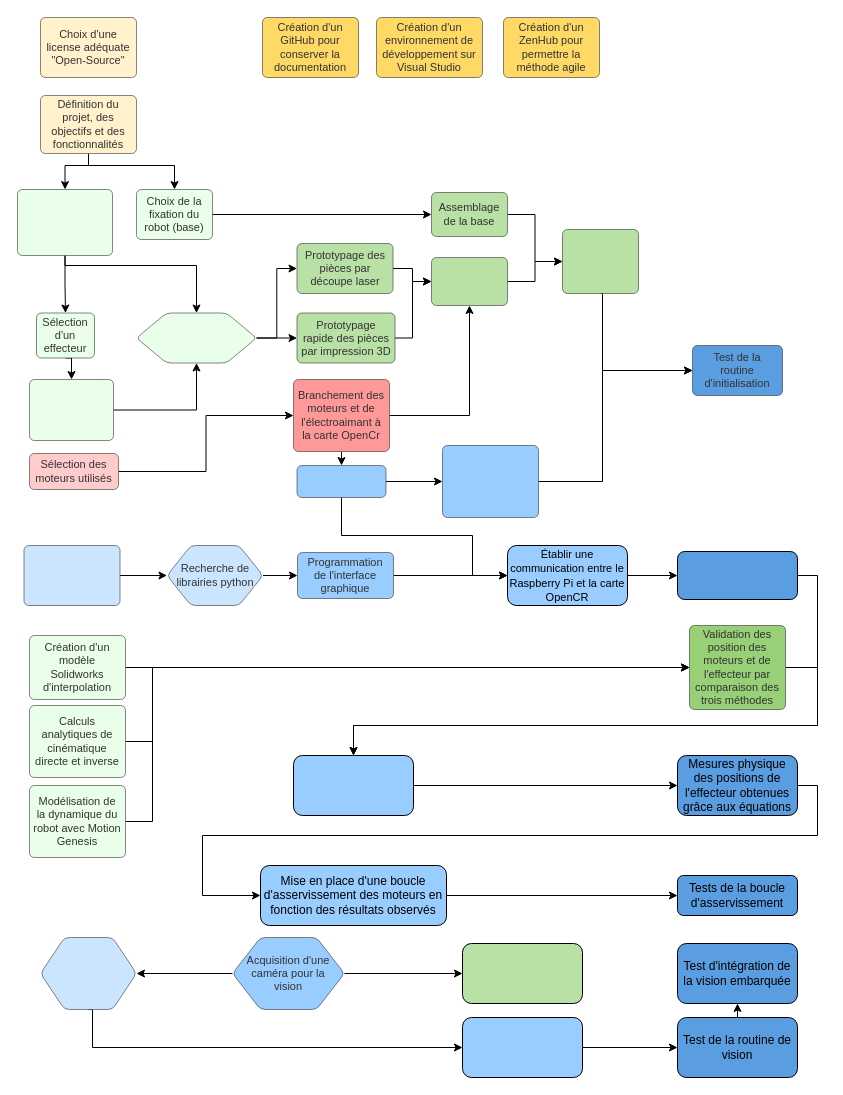
Image size: 843x1095. Some labels were removed from this diagram. Each missing label, with the centre of its shape:
Assemblage des deux sous-assemblages: (600,261)
Assemblage des pièces du robot: (469,281)
Choix des matériaux et procédés utilisés: (196,337)
Configuration des moteurs: (341,481)
Design d'un support pour l'effecteur sélectionné: (71,409)
Design préliminaire du robot à l'aide de logiciel de CAO: (64,222)
Intégration de la caméra sur le robot: (522,973)
Programmation d'une routine d'initialisation des trois moteurs: (490,481)
Programmation d'une routine pour la vision: (522,1047)
Programmation des équations obtenues avec la cinématique inverse: (353,785)
Recherches de librairies pour la vision: (88,973)
Sélection des fonctionnalités de l'interface graphique: (71,575)
Test de contrôle des moteurs par l'interface: (737,575)
